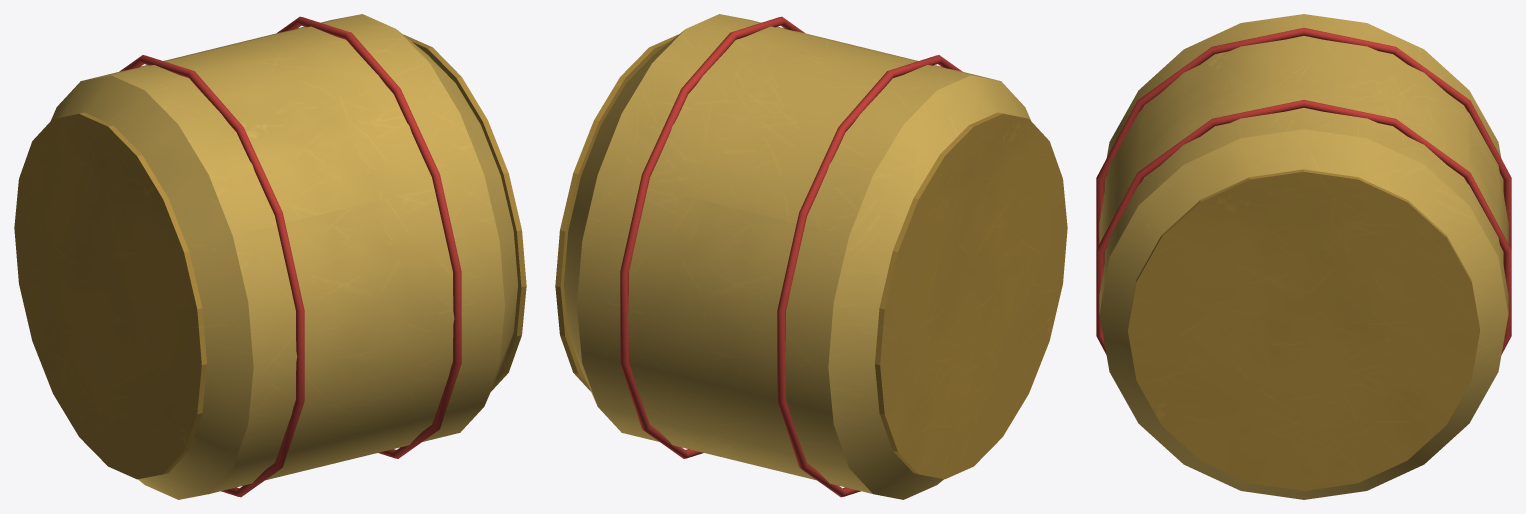
Rendered from hay_bale.glb.
The picture shows the model from 3 angles, left to right: view 1: azimuth 30°, elevation 25°; view 2: azimuth 150°, elevation 25°; view 3: azimuth 270°, elevation 25°; orthographic projection. The views are drawn at different scales.
Visible parts, largest first — view 1: hay_bale; view 2: hay_bale; view 3: hay_bale.
Boxes of the visible parts, x1=… form: hay_bale: x1=14, y1=14, x2=526, y2=499; hay_bale: x1=555, y1=14, x2=1067, y2=499; hay_bale: x1=1096, y1=14, x2=1511, y2=499.
Bounding box in the file's own units: 1.24 × 1.5 × 1.46.
Materials: 3 (3 with a texture image).
